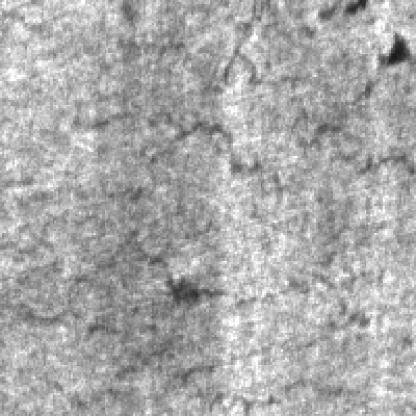crazing: (0, 193, 370, 410), (4, 37, 410, 204)
